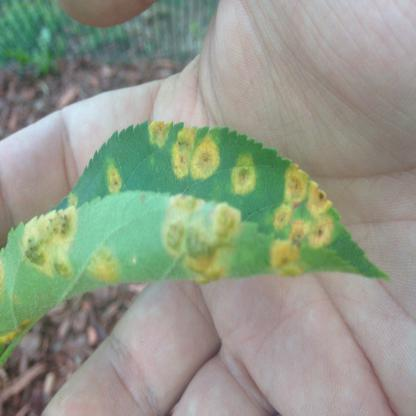apple rust leaf: (5, 125, 387, 350)
